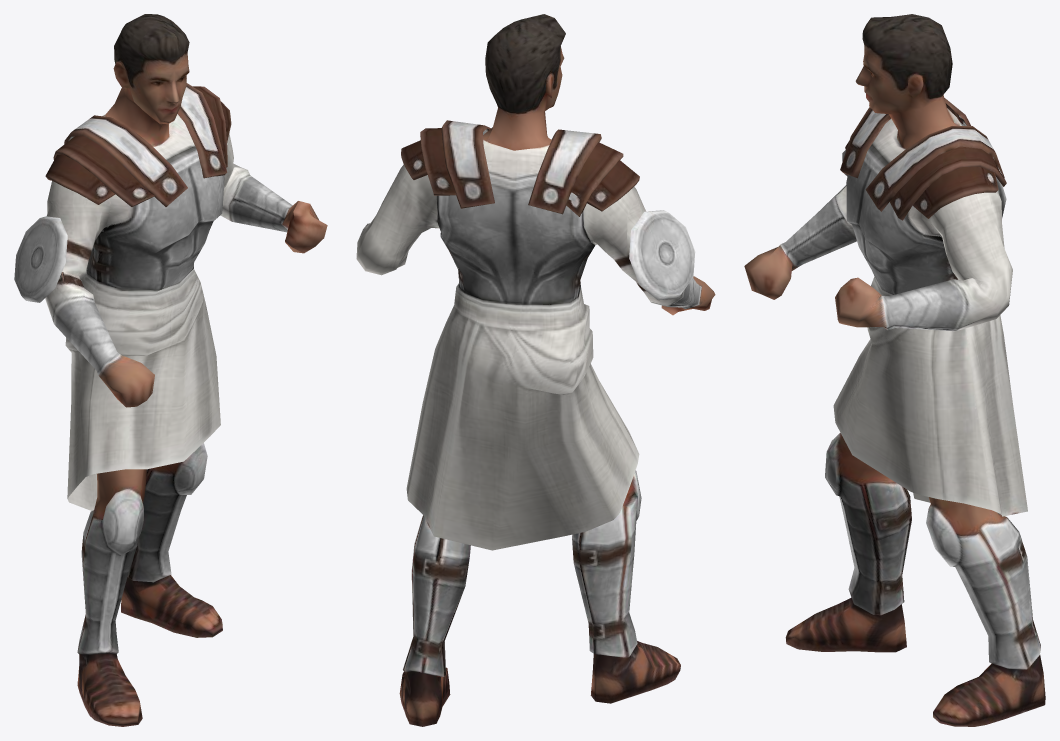
The model's file is body-heavyinfantry.glb.
3 renders of one model, left to right at view 1: azimuth 30°, elevation 25°; view 2: azimuth 150°, elevation 25°; view 3: azimuth 270°, elevation 25°, orthographic. The views are drawn at different scales.
Size of the model in its own units: 1.01 by 2.19 by 0.8973.
Materials: 1 (1 with a texture image).
